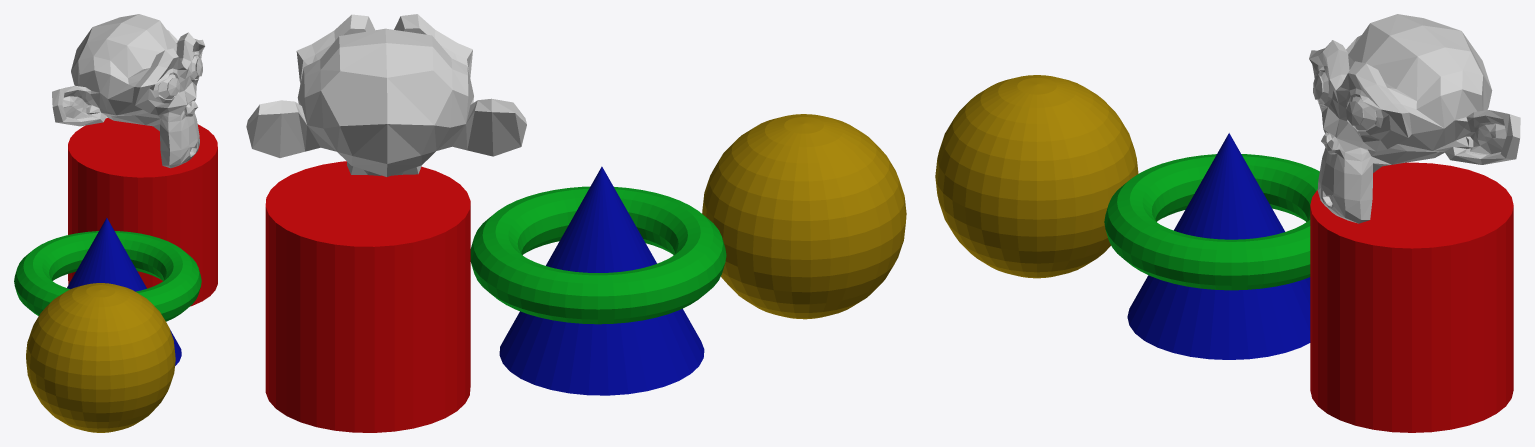
The model's file is monkeyscene.obj.
The picture shows the model from 3 angles, left to right: view 1: azimuth 30°, elevation 25°; view 2: azimuth 150°, elevation 25°; view 3: azimuth 270°, elevation 25°; orthographic projection. The views are drawn at different scales.
Visible parts, largest first — view 1: Sphere, Cylinder, Monkey_Monkey.001, Torus, Cube; view 2: Cylinder, Sphere, Monkey_Monkey.001, Torus, Cube; view 3: Cylinder, Sphere, Monkey_Monkey.001, Cube, Torus.
Part boxes in pixels (box(x1,y1,x2,y2)): Sphere: box(26, 283, 175, 432); Cylinder: box(68, 118, 217, 306); Monkey_Monkey.001: box(52, 14, 204, 168); Torus: box(14, 231, 201, 321); Cube: box(67, 217, 181, 365); Cylinder: box(265, 161, 470, 432); Sphere: box(702, 114, 906, 319); Monkey_Monkey.001: box(246, 14, 526, 176); Torus: box(470, 186, 726, 324); Cube: box(499, 166, 704, 395); Cylinder: box(1310, 162, 1513, 432); Sphere: box(935, 75, 1138, 278); Monkey_Monkey.001: box(1309, 14, 1520, 223); Cube: box(1127, 133, 1310, 359); Torus: box(1104, 154, 1319, 290).
Size of what is drawn, in the model's own units: 4.78 by 3.83 by 5.75.
